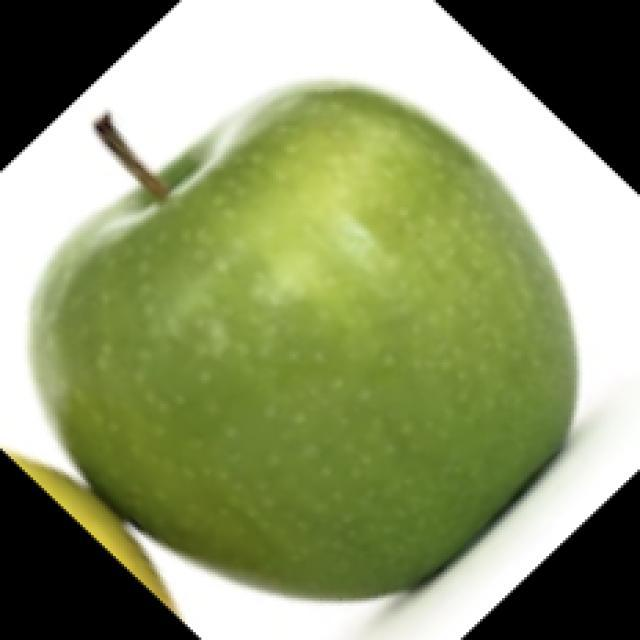Fresh Apple: (29, 78, 583, 598)
